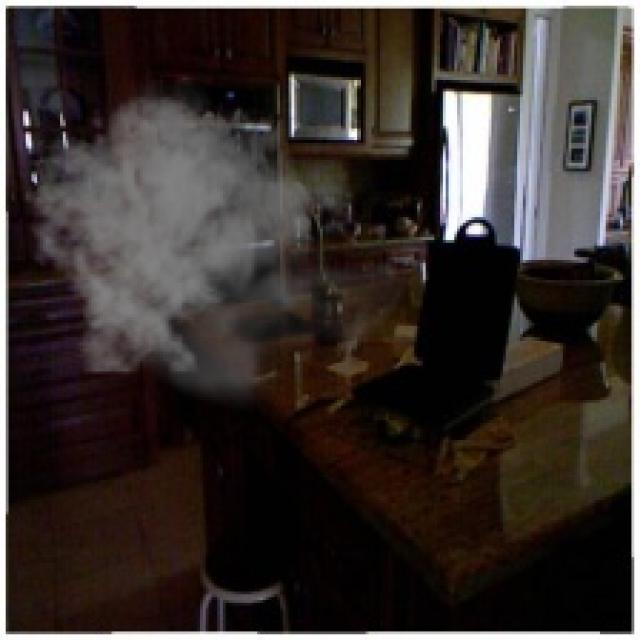Smoke: (22, 72, 414, 414)
